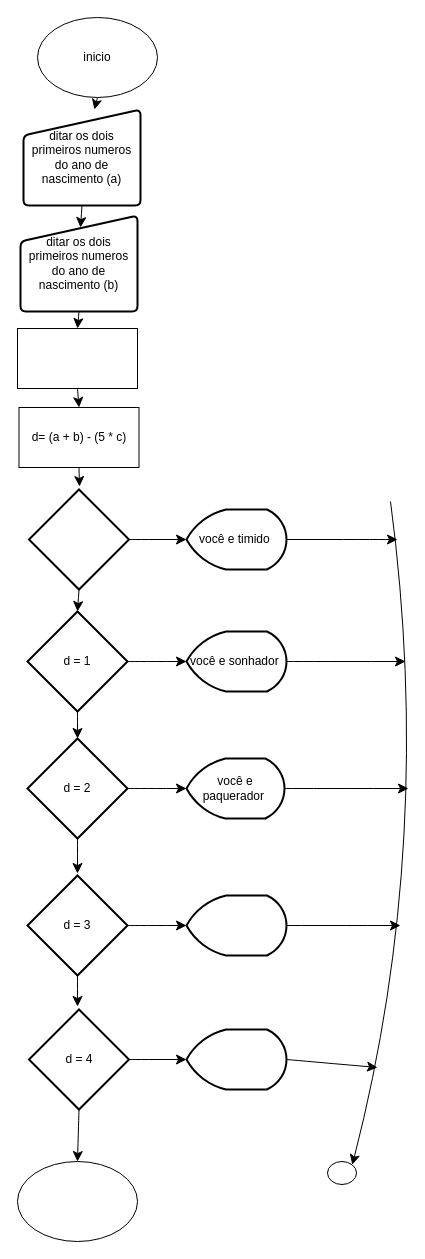
Some shapes in this 425 by 1259 pixel diagram are drawn without their labels. The shapes that lost their labels are listed below. From the top down, each one's box as (x1, y1, x2, y2) in pixels, then its label:
(16, 328, 138, 388): c=(a+b)/5
(28, 488, 130, 590): d = 0
(185, 894, 287, 956): você e atraente
(185, 1028, 287, 1090): você e irresistivel
(16, 1160, 138, 1242): fim
